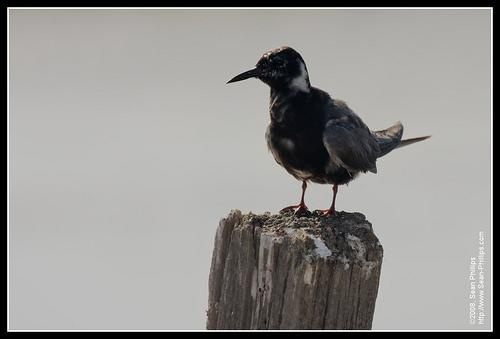bird: (225, 45, 435, 213)
